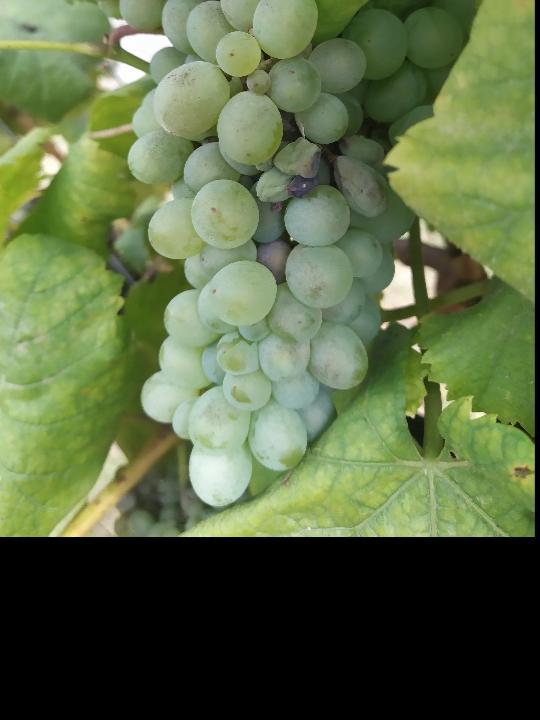grape: (67, 0, 464, 512)
